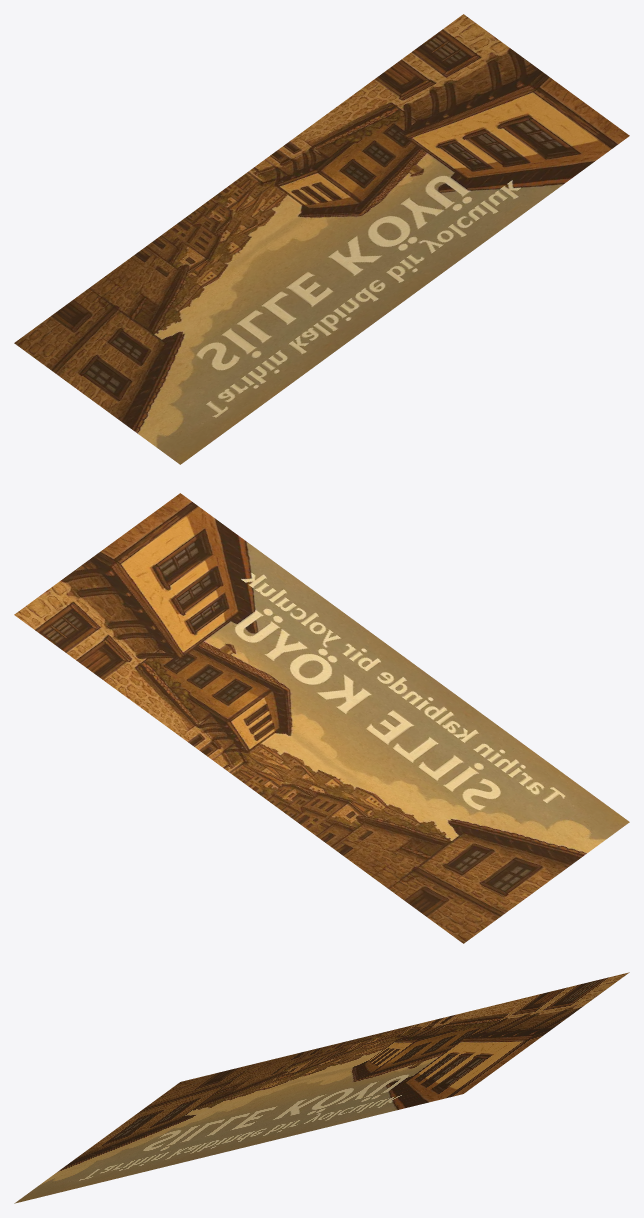
File: tane6.glb
3 views of the same model, one above another, from view 1: azimuth 30°, elevation 25°; view 2: azimuth 150°, elevation 25°; view 3: azimuth 330°, elevation 25° (orthographic).
Visible parts, largest first — view 1: Plane; view 2: Plane; view 3: Plane.
Part boxes in pixels (left/top/right/bottom): Plane: left=14, top=14, right=629, bottom=464; Plane: left=14, top=493, right=629, bottom=943; Plane: left=14, top=972, right=629, bottom=1203.
Bounding box in the file's own units: 4.23 × 1.97 × 2.71.
Materials: 1 (1 with a texture image).
